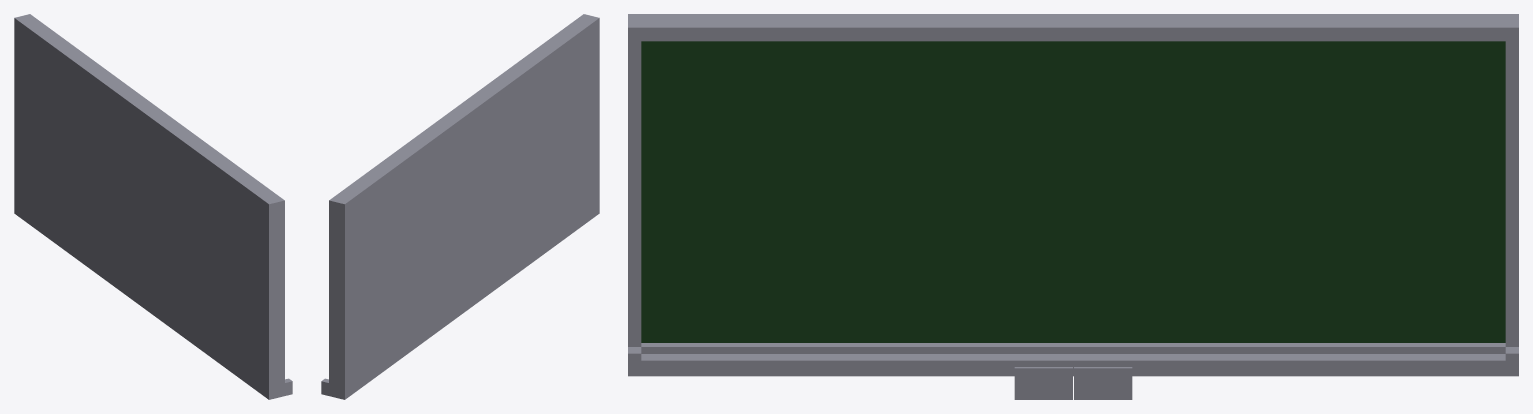
File: Kokuban.fbx
3 renders of one model, left to right at view 1: azimuth 30°, elevation 25°; view 2: azimuth 150°, elevation 25°; view 3: azimuth 270°, elevation 25°, orthographic. The views are drawn at different scales.
Visible parts, largest first — view 1: Kokuban; view 2: Kokuban; view 3: Kokuban, Chalk_Box.
Part boxes in pixels (box(x1,y1,x2,y2)): Kokuban: box(14, 14, 292, 399); Kokuban: box(321, 14, 599, 399); Kokuban: box(628, 14, 1518, 376); Chalk_Box: box(1014, 367, 1132, 399).
Size of the model in its own units: 0.3841 by 2.75 by 6.12.
